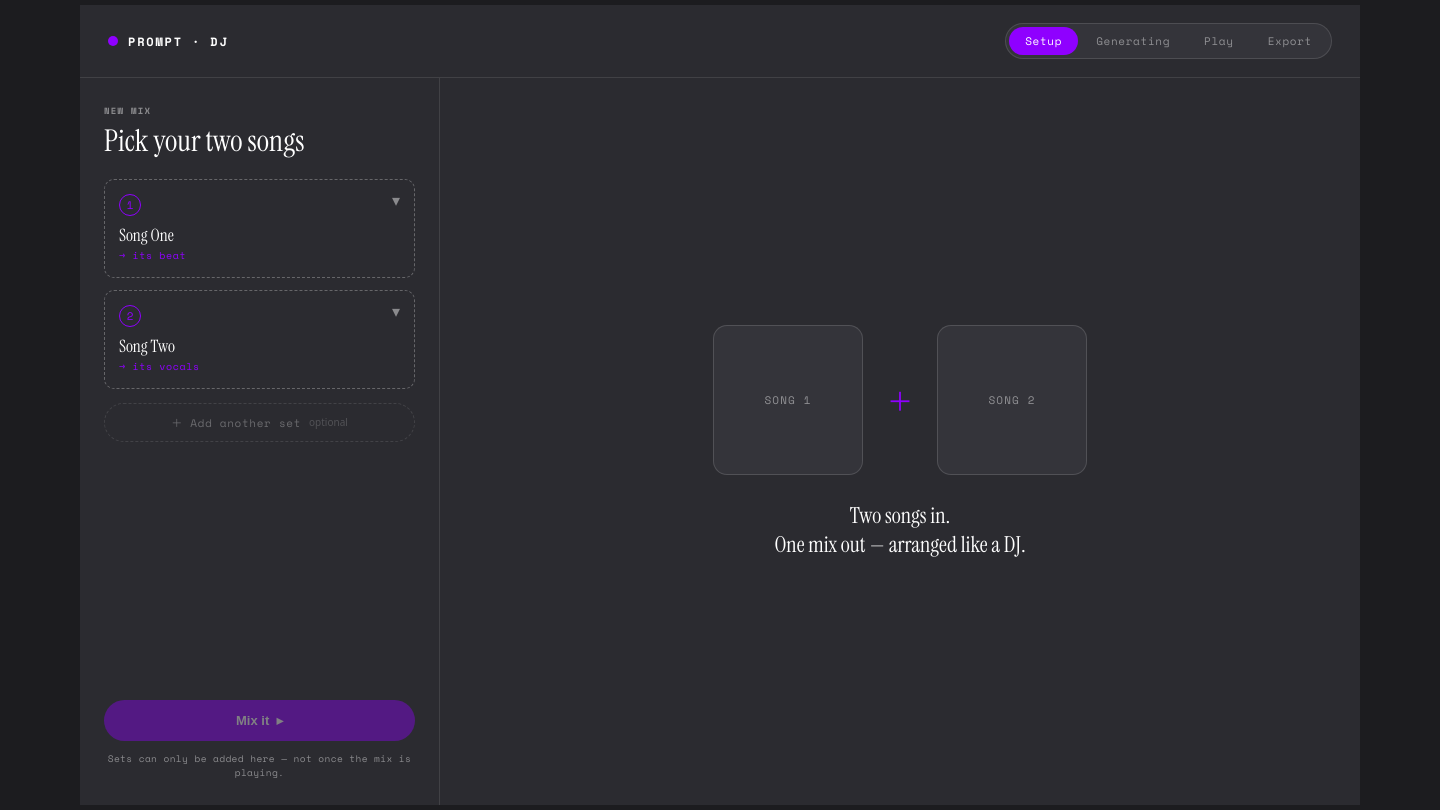
Test: App — the catalog flow › shows only beats in Song 1 and only vocals in Song 2
Click the button with test id "song-slot-1".
click(146, 234)  # box [104,178,415,278]
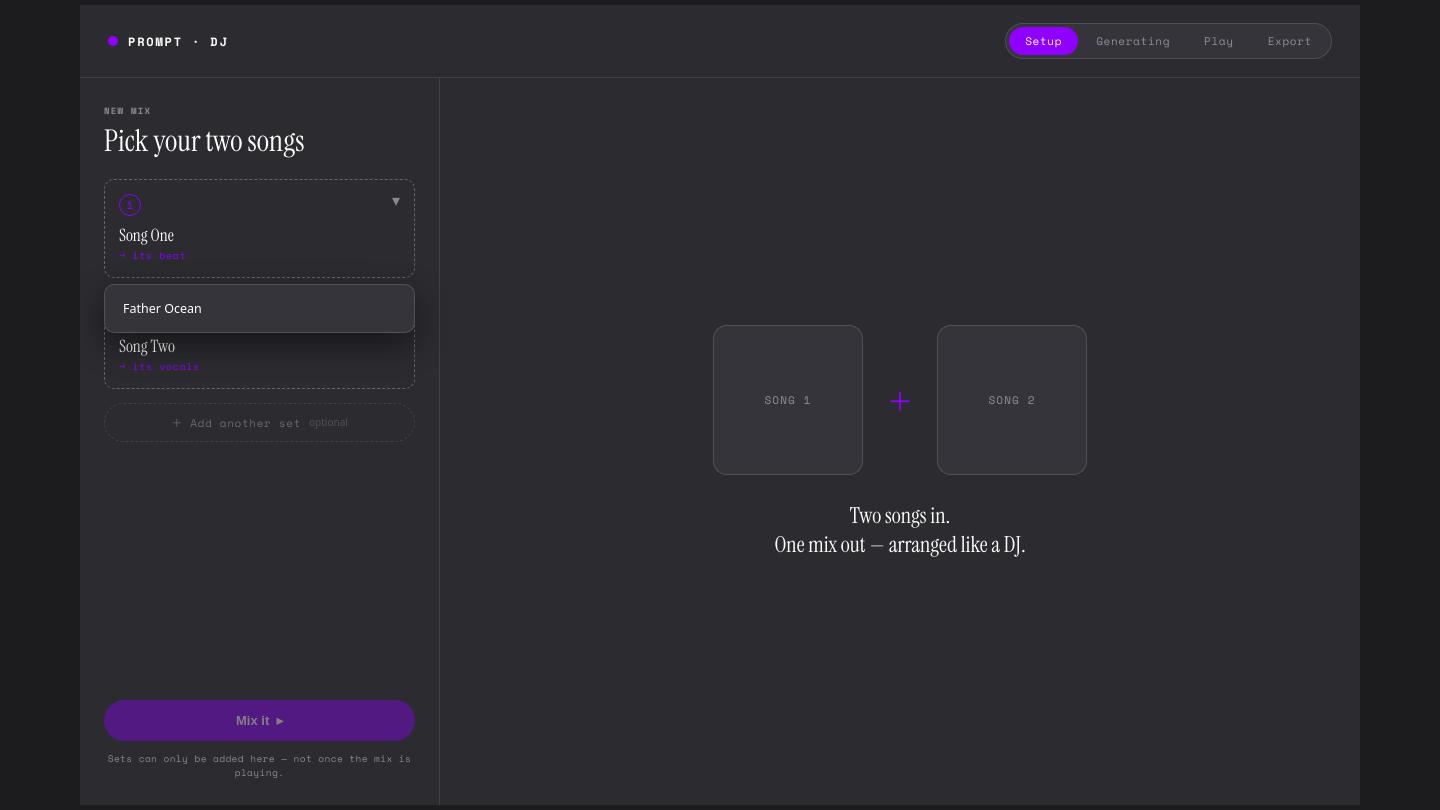
Expected: the option "tere bina" is not shown
Now the option "Father Ocean" is shown, box [111,290,408,326]
Click the button with test id "song-slot-2".
click(147, 346)  # box [104,290,415,388]
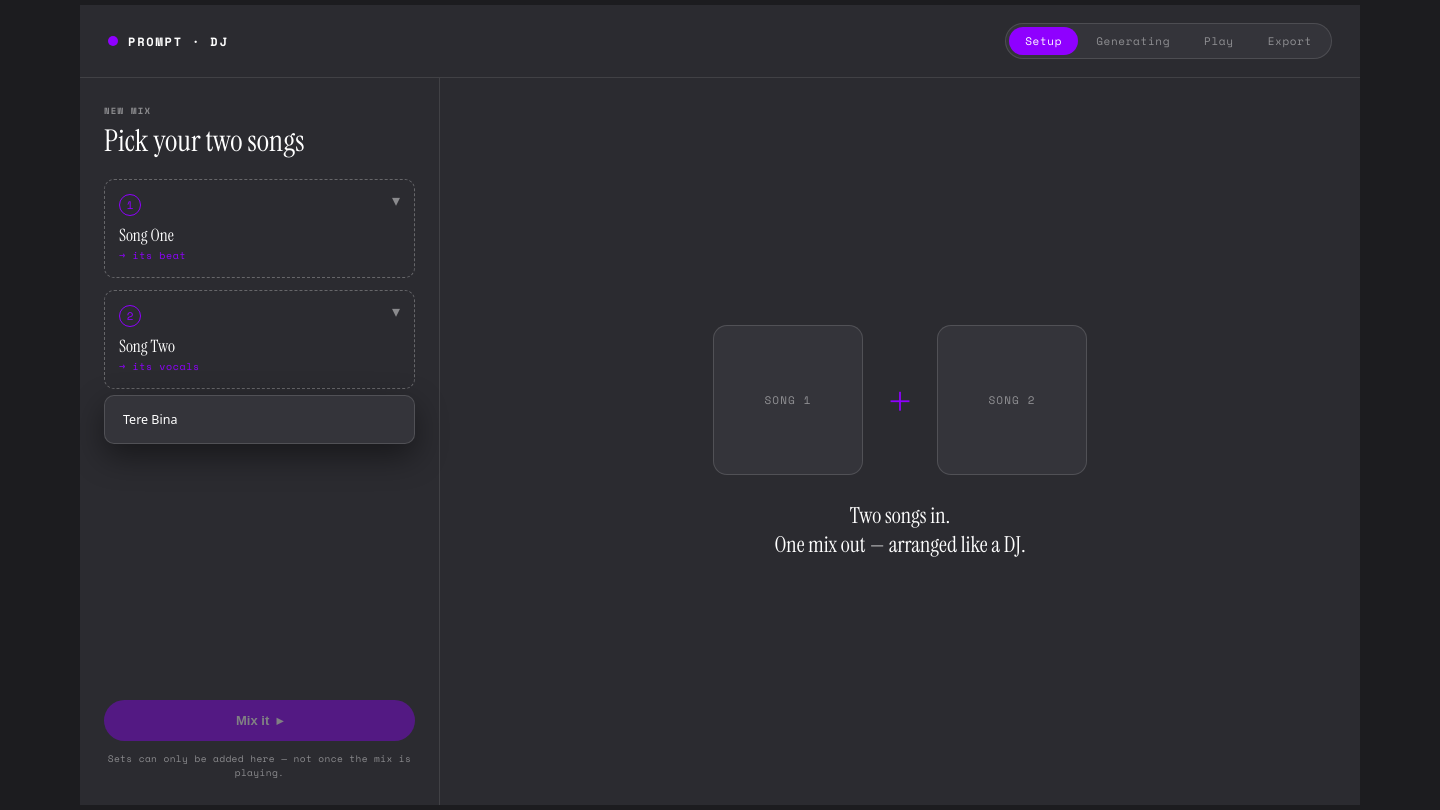
Now the option "Tere Bina" is shown, box [111,402,408,436]
Now the option "Father Ocean" is gone
